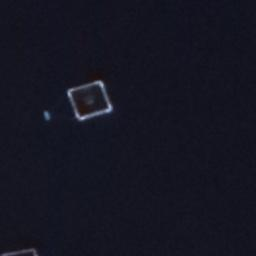square_solid: (62, 76, 117, 123)
